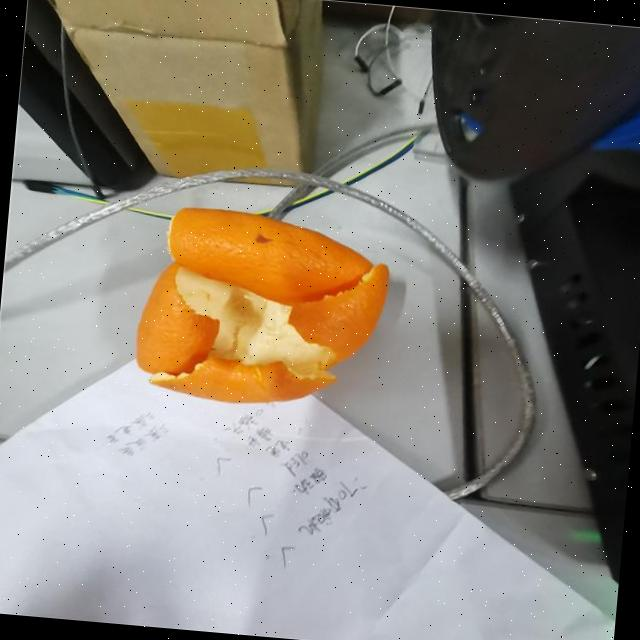orange-peel: (130, 200, 394, 416)
